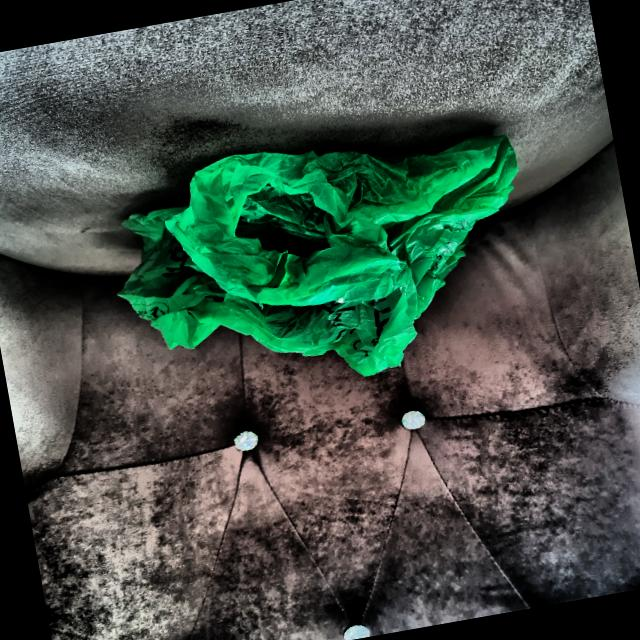plastic bag: (93, 105, 550, 418)
